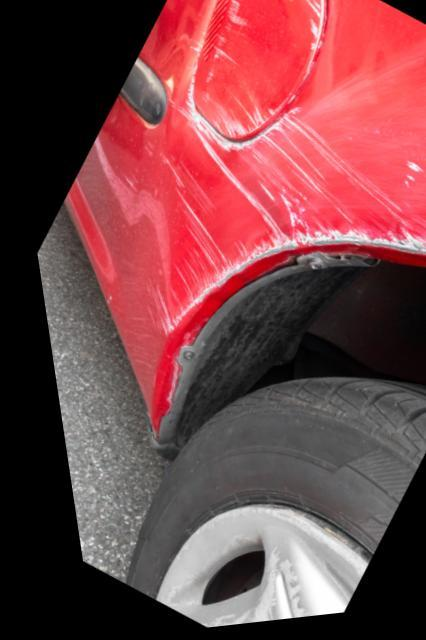scratch: (112, 0, 426, 339), (190, 0, 318, 144), (181, 554, 296, 630)
